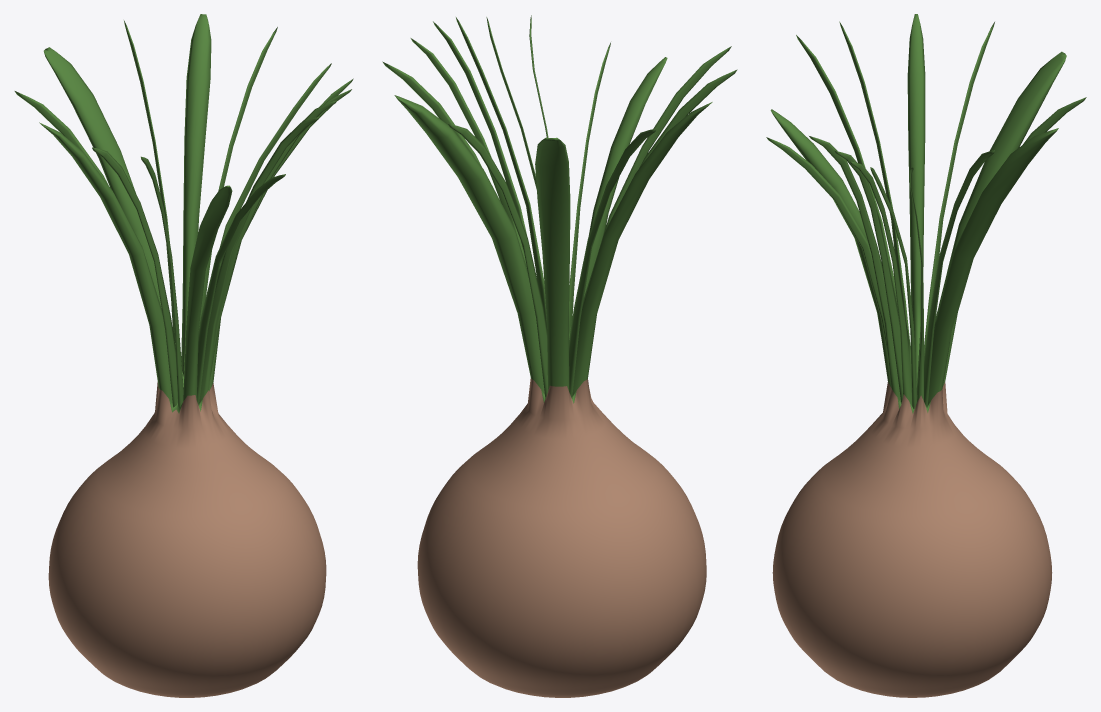
Rendered from Onion.fbx.
3 renders of one model, left to right at view 1: azimuth 30°, elevation 25°; view 2: azimuth 150°, elevation 25°; view 3: azimuth 270°, elevation 25°, orthographic. The views are drawn at different scales.
Parts seen in each view (by area): view 1: pSphere1; view 2: pSphere1; view 3: pSphere1.
Boxes of the visible parts, bbox=[...] form: pSphere1: bbox=[14, 14, 353, 697]; pSphere1: bbox=[382, 15, 737, 697]; pSphere1: bbox=[766, 14, 1086, 697].
Size of the model in its own units: 5.61 by 10.91 by 5.32.
